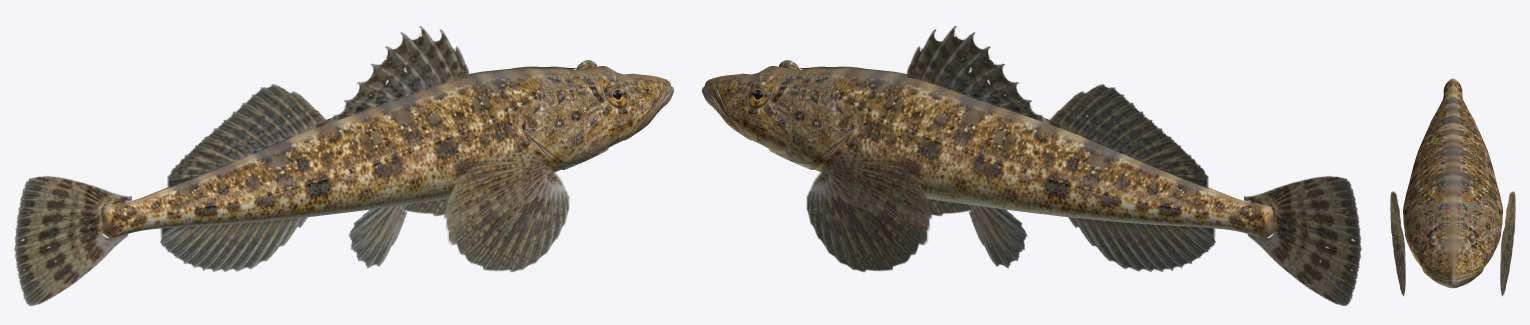
Rendered from magochi.glb.
3 views of the same model, side by side, from view 1: azimuth 30°, elevation 25°; view 2: azimuth 150°, elevation 25°; view 3: azimuth 270°, elevation 25° (orthographic). The views are drawn at different scales.
Parts seen in each view (by area): view 1: magochi; view 2: magochi; view 3: magochi.
Part boxes in pixels (x1,y1,x2,y2): magochi: (14,26,673,305); magochi: (702,26,1361,305); magochi: (1390,78,1515,296).
Bounding box in the file's own units: 0.4512 × 0.1526 × 0.1082.
Materials: 1 (1 with a texture image).
